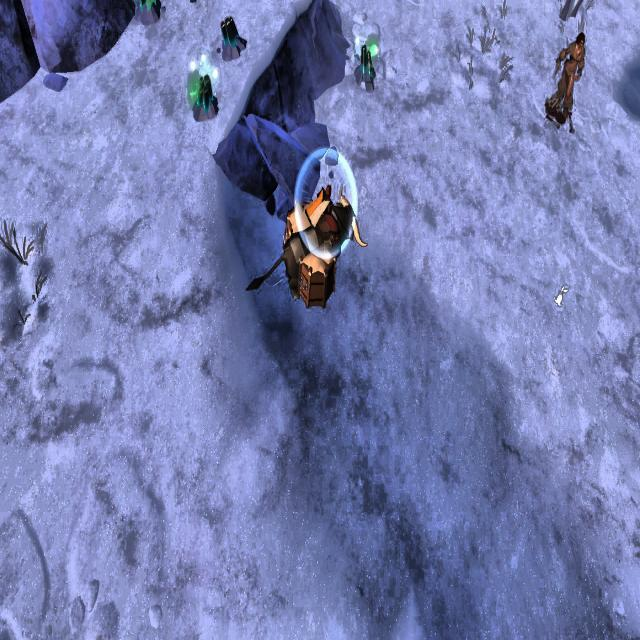enemy_factionKeeper: (546, 28, 588, 123)
ore_t4: (192, 68, 214, 116), (218, 12, 242, 50), (358, 42, 373, 85)
